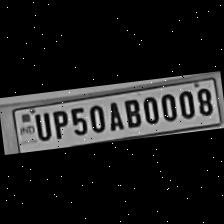0: (85, 99, 108, 133), (138, 90, 160, 124), (174, 85, 196, 119), (157, 87, 178, 121)
5: (66, 101, 88, 135)
8: (192, 84, 214, 116)
A: (103, 96, 123, 132)
B: (120, 93, 142, 128)
P: (48, 104, 70, 138)
U: (30, 108, 52, 140)
